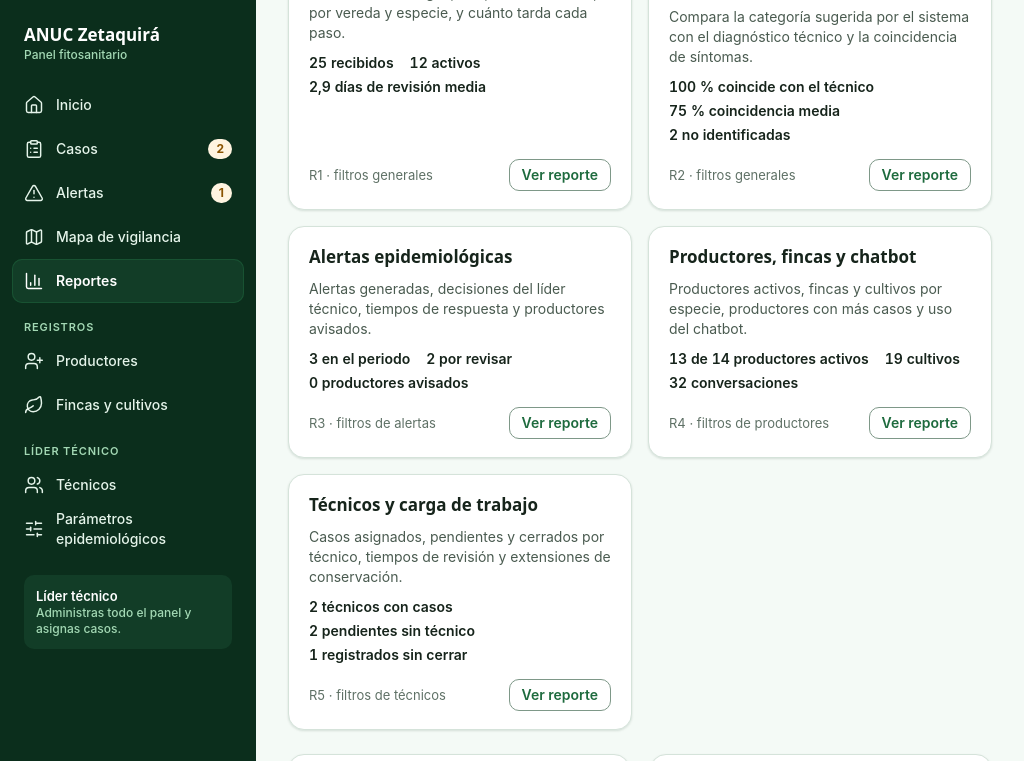
Test: Reportes · resumen (pantalla 23) › «Ver reporte» abre el reporte con el periodo del resumen
(page scrolled)
Click the link "Ver reporte" next to "filtros de alertas". click: x=560, y=423
box: [509,407,611,439]
(page scrolled)
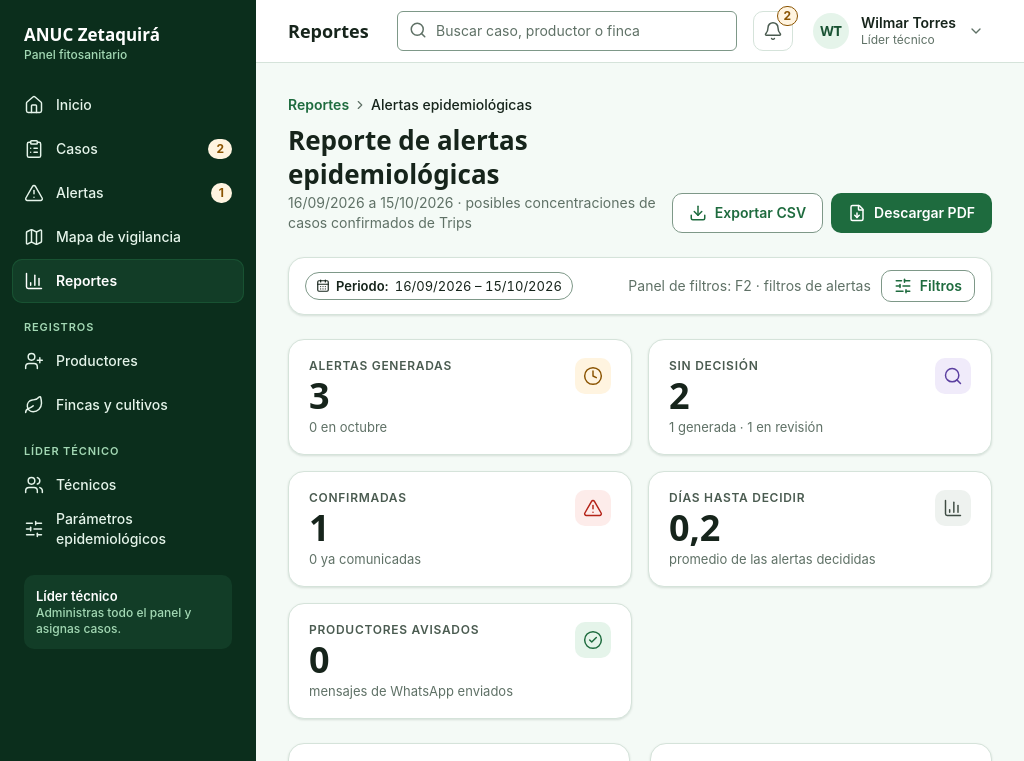
expect the heading "Reporte de alertas epidemiológicas" is shown: met, box [288,122,528,192]
